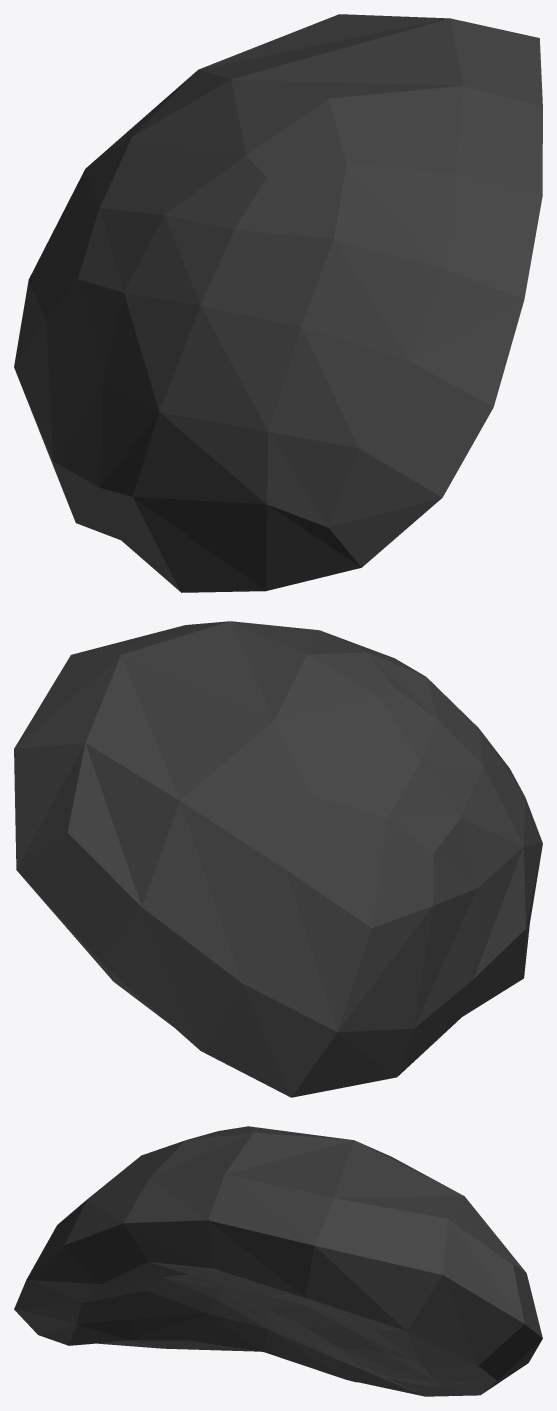
The model's file is LHL_femur1.glb.
The picture shows the model from 3 angles, top to bottom: view 1: azimuth 30°, elevation 25°; view 2: azimuth 150°, elevation 25°; view 3: azimuth 270°, elevation 25°; orthographic projection. The views are drawn at different scales.
Parts seen in each view (by area): view 1: LHL_femur1; view 2: LHL_femur1; view 3: LHL_femur1.
Part boxes in pixels (<box>): LHL_femur1: <box>14,14,542,592</box>; LHL_femur1: <box>14,621,542,1097</box>; LHL_femur1: <box>14,1126,542,1396</box>.
Size of the model in its own units: 8.75 by 7.4 by 11.27.
Materials: 1 (1 with a texture image).
